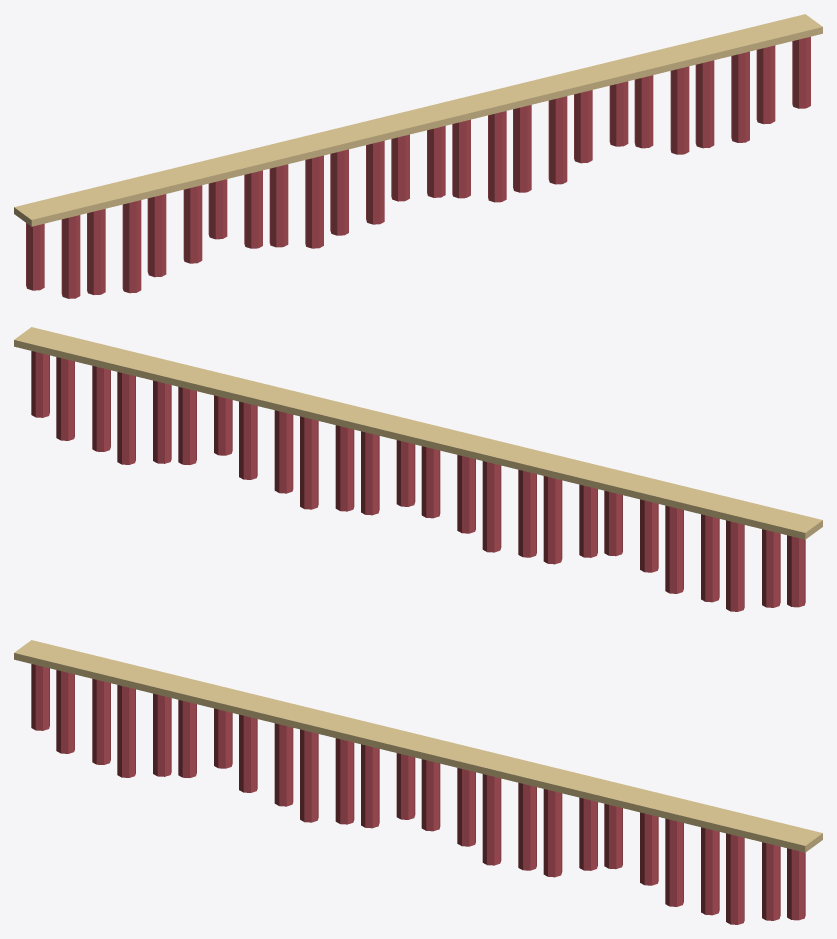
Rendered from valance.glb.
The picture shows the model from 3 angles, top to bottom: view 1: azimuth 30°, elevation 25°; view 2: azimuth 150°, elevation 25°; view 3: azimuth 330°, elevation 25°; orthographic projection.
Visible parts, largest first — view 1: valance_curtain, valance_gold; view 2: valance_curtain, valance_gold; view 3: valance_curtain, valance_gold.
Boxes of the visible parts, x1=… form: valance_curtain: x1=26, y1=36, x2=810, y2=298; valance_gold: x1=14, y1=14, x2=822, y2=226; valance_curtain: x1=31, y1=351, x2=805, y2=611; valance_gold: x1=14, y1=327, x2=822, y2=539; valance_curtain: x1=31, y1=664, x2=805, y2=924; valance_gold: x1=14, y1=640, x2=822, y2=852.
Bounding box in the file's own units: 10.4 × 1.25 × 0.4.
